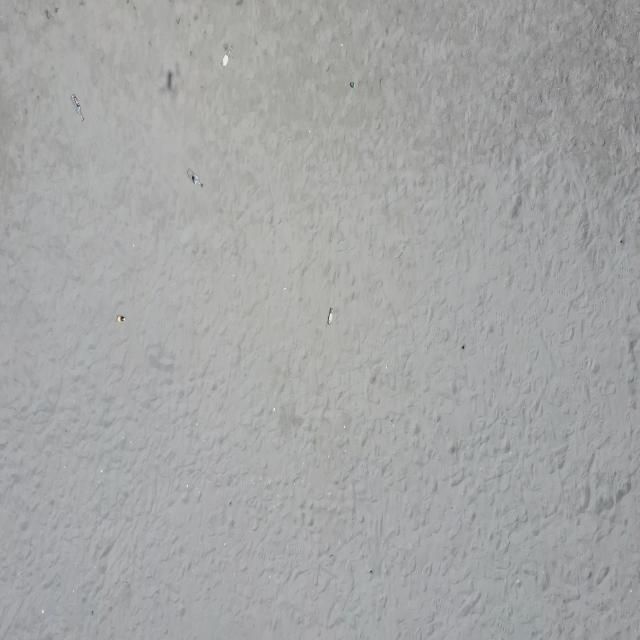glass: (70, 94, 84, 121), (186, 168, 204, 189), (220, 48, 234, 68), (328, 308, 334, 326), (117, 316, 126, 322), (350, 82, 355, 88)
